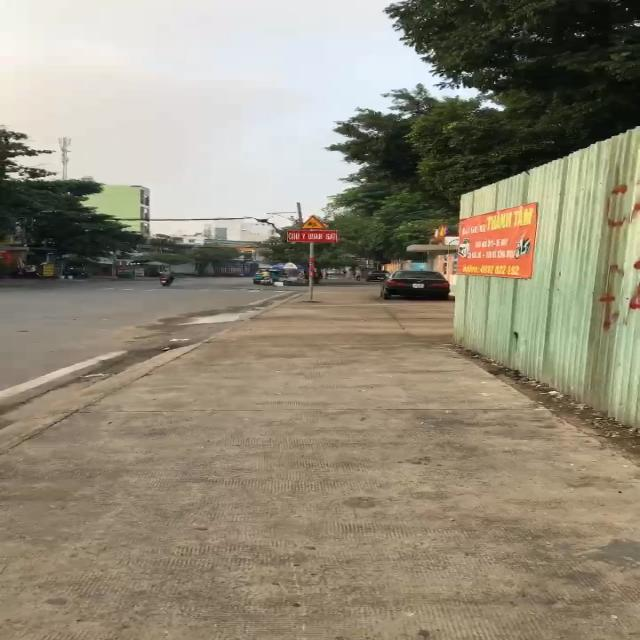Bien bao tre em: (296, 213, 329, 230)
